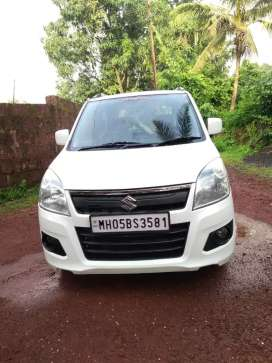license_plate: (90, 216, 170, 232)
